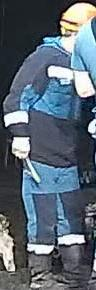helmet: (58, 1, 95, 35)
vest: (0, 36, 87, 177)
